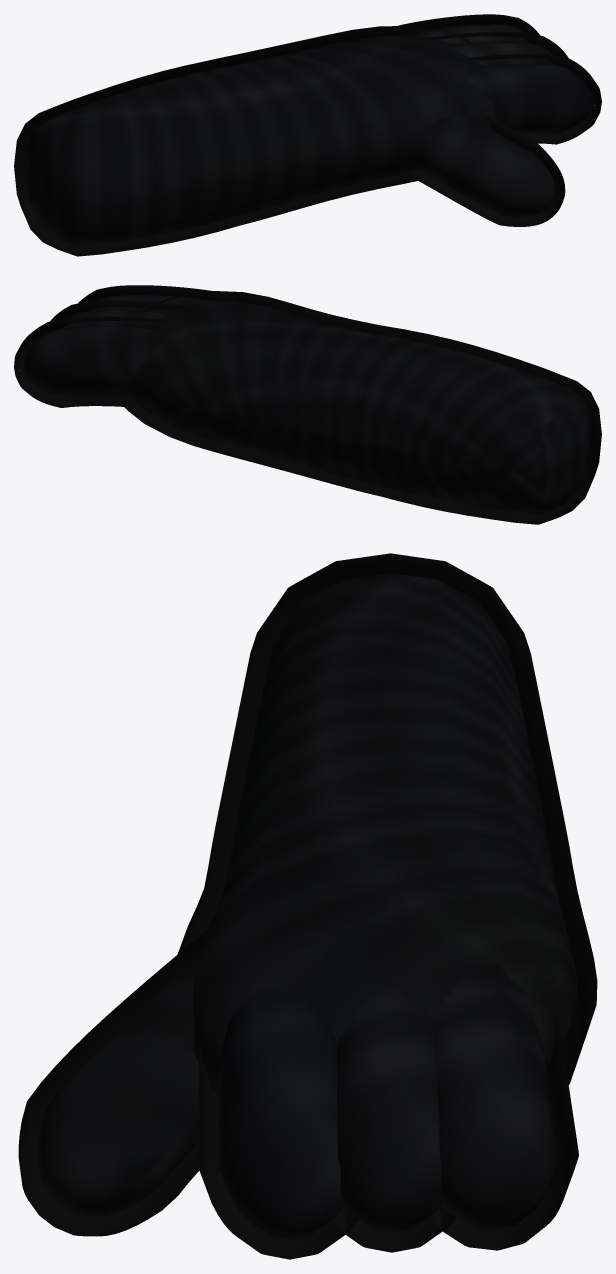
The model's file is brazo2.obj.
3 renders of one model, top to bottom at view 1: azimuth 30°, elevation 25°; view 2: azimuth 150°, elevation 25°; view 3: azimuth 270°, elevation 25°, orthographic. The views are drawn at different scales.
Parts seen in each view (by area): view 1: Body; view 2: Body; view 3: Body.
Boxes of the visible parts, x1=… form: Body: x1=14, y1=14, x2=601, y2=256; Body: x1=14, y1=285, x2=601, y2=524; Body: x1=18, y1=553, x2=597, y2=1259.
Size of the model in its own units: 9.59 by 2.68 by 4.47.
